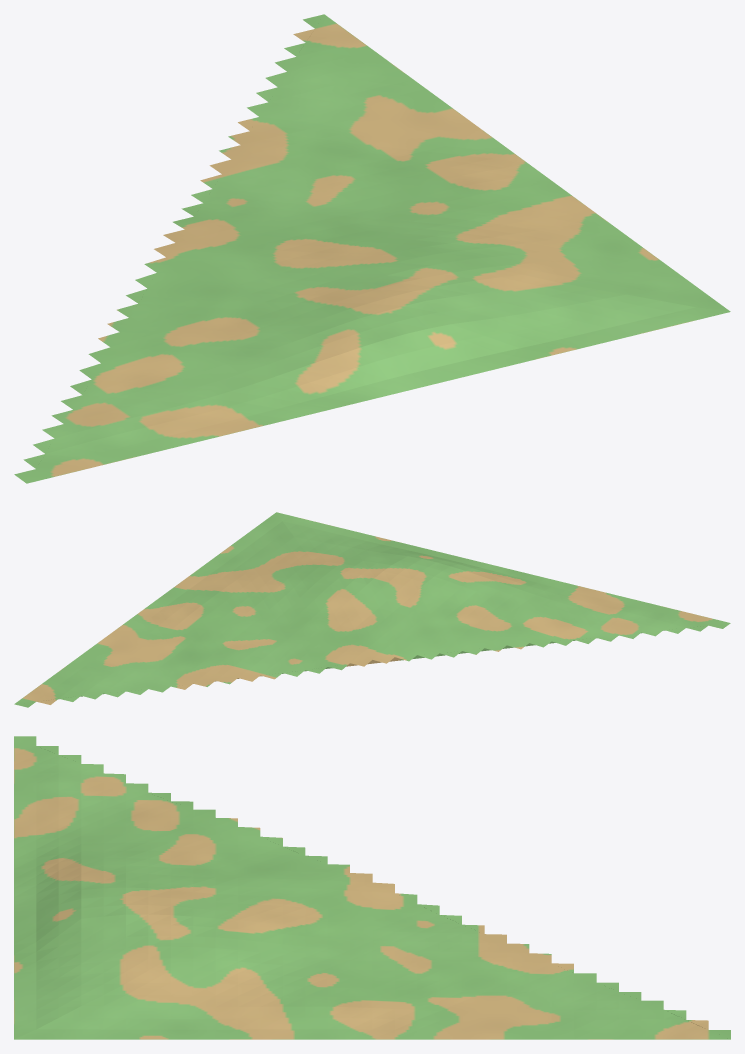
Rendered from Grass_Flat_07_NE.obj.
The picture shows the model from 3 angles, top to bottom: view 1: azimuth 30°, elevation 25°; view 2: azimuth 150°, elevation 25°; view 3: azimuth 270°, elevation 25°; orthographic projection. The views are drawn at different scales.
Bounding box in the file's own units: 10 × 0.3209 × 10.
Materials: 1 (1 with a texture image).
